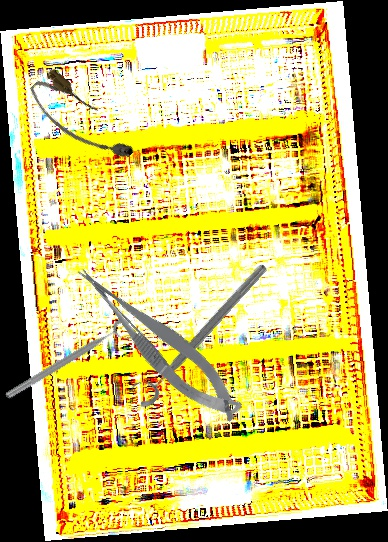Cannula: (23, 65, 140, 176)
Fixation Ring: (124, 252, 272, 413), (2, 315, 139, 410)
Micro Scissor: (70, 245, 250, 438)
